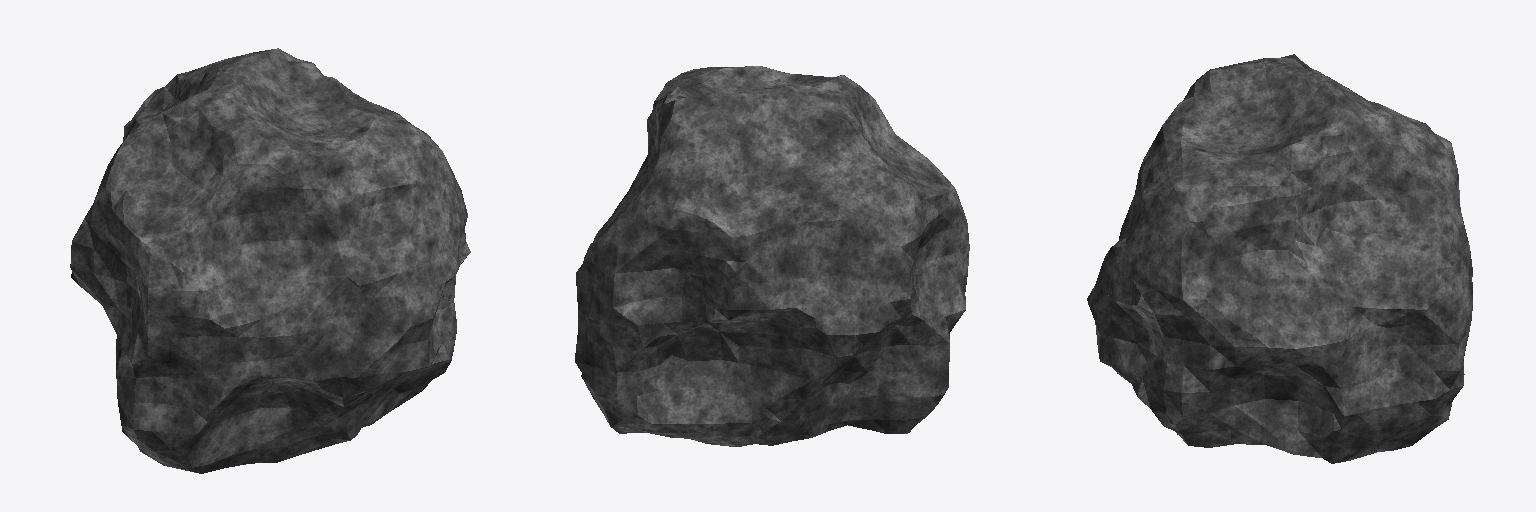
The picture shows the model from 3 angles: view 1: azimuth 30°, elevation 25°; view 2: azimuth 150°, elevation 25°; view 3: azimuth 270°, elevation 25°; orthographic projection.
Visible parts, largest first — view 1: Asteroid03_Low; view 2: Asteroid03_Low; view 3: Asteroid03_Low.
Part boxes in pixels (left/top/right/bottom): Asteroid03_Low: left=70, top=48, right=470, bottom=473; Asteroid03_Low: left=575, top=66, right=969, bottom=446; Asteroid03_Low: left=1087, top=54, right=1472, bottom=463.
Size of the model in its own units: 5.3 by 5.47 by 5.39.
Materials: 1 (1 with a texture image).